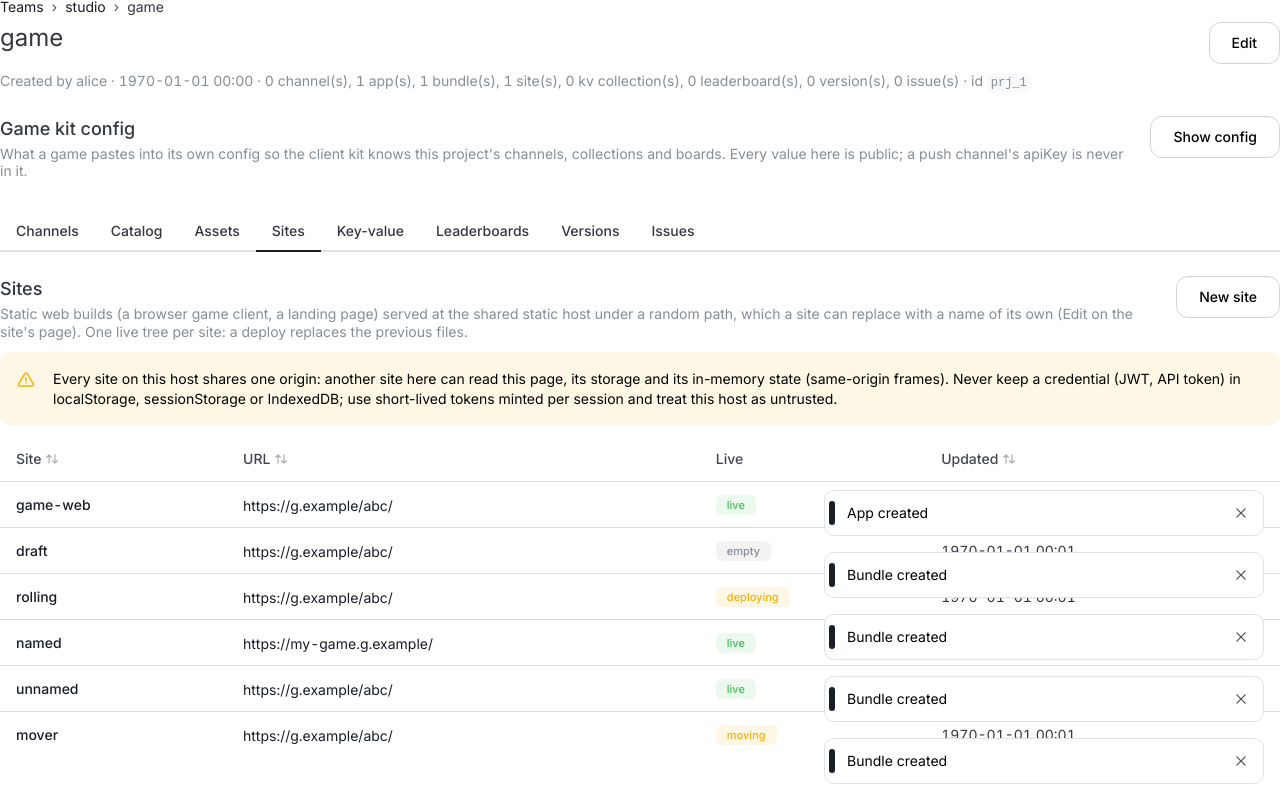
Scenario: sites tab › warns about the shared origin and shows the live state per site
The width and height of the screenshot is (1280, 800).
Check: the text "Every site on this host shares one origin: another site here can read this page, its storage and its in-memory state (sa" is shown, box [53,370,1241,407]
Click the button "New site" at (1228, 297), box [1176,276,1279,318]
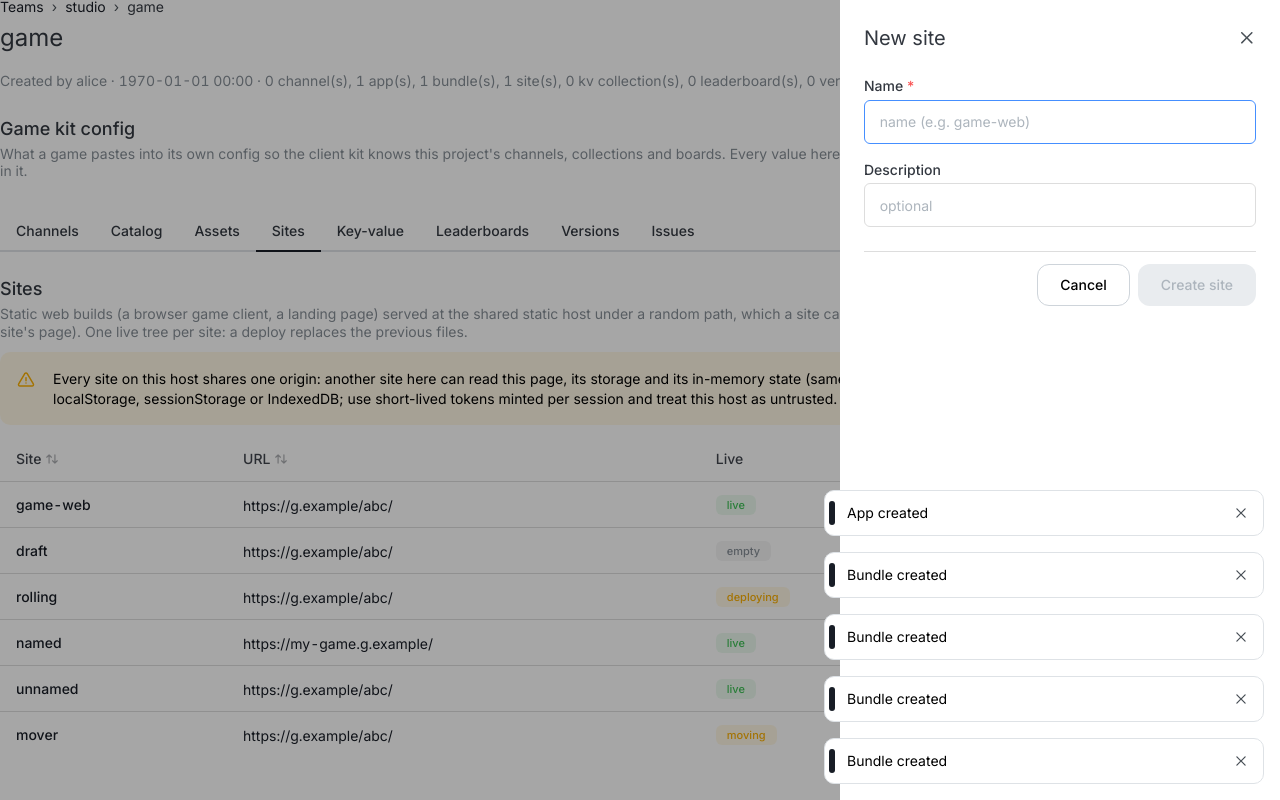
Check: the button "Create site" is disabled, box [1138,264,1256,306]
